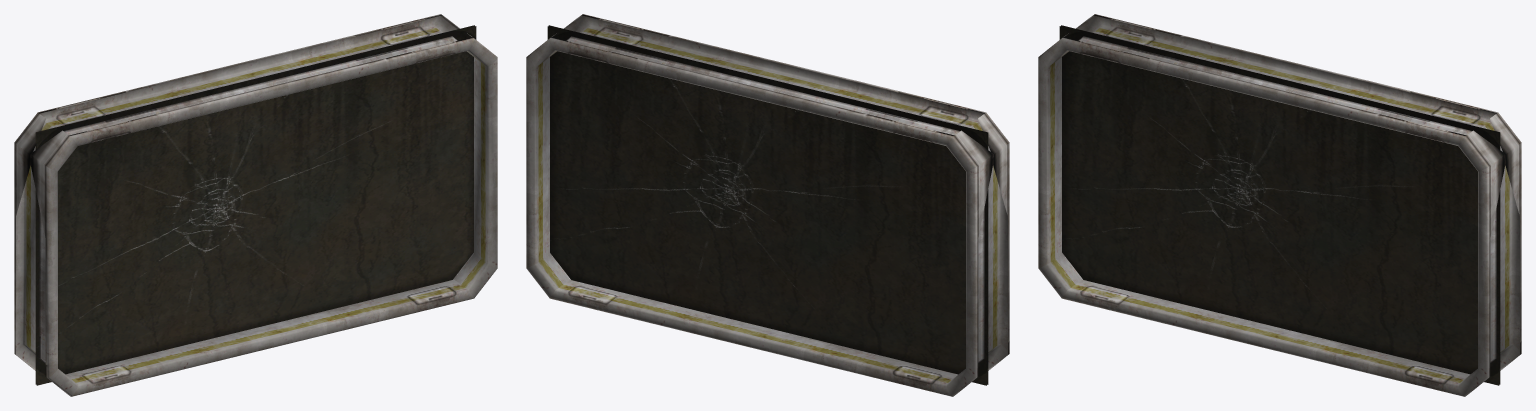
Rendered from lambda_window_large_crack_03.dae.
The picture shows the model from 3 angles, left to right: view 1: azimuth 30°, elevation 25°; view 2: azimuth 150°, elevation 25°; view 3: azimuth 330°, elevation 25°; orthographic projection.
Parts seen in each view (by area): view 1: glass, theta_ground_window_frame; view 2: glass, theta_ground_window_frame; view 3: glass, theta_ground_window_frame.
Boxes of the visible parts, x1=… form: glass: x1=35, y1=25, x2=476, y2=385; theta_ground_window_frame: x1=14, y1=14, x2=497, y2=396; glass: x1=547, y1=25, x2=988, y2=385; theta_ground_window_frame: x1=526, y1=14, x2=1009, y2=396; glass: x1=1059, y1=25, x2=1500, y2=385; theta_ground_window_frame: x1=1038, y1=14, x2=1521, y2=396.
Size of the model in its own units: 4.27 by 2.36 by 0.576.
